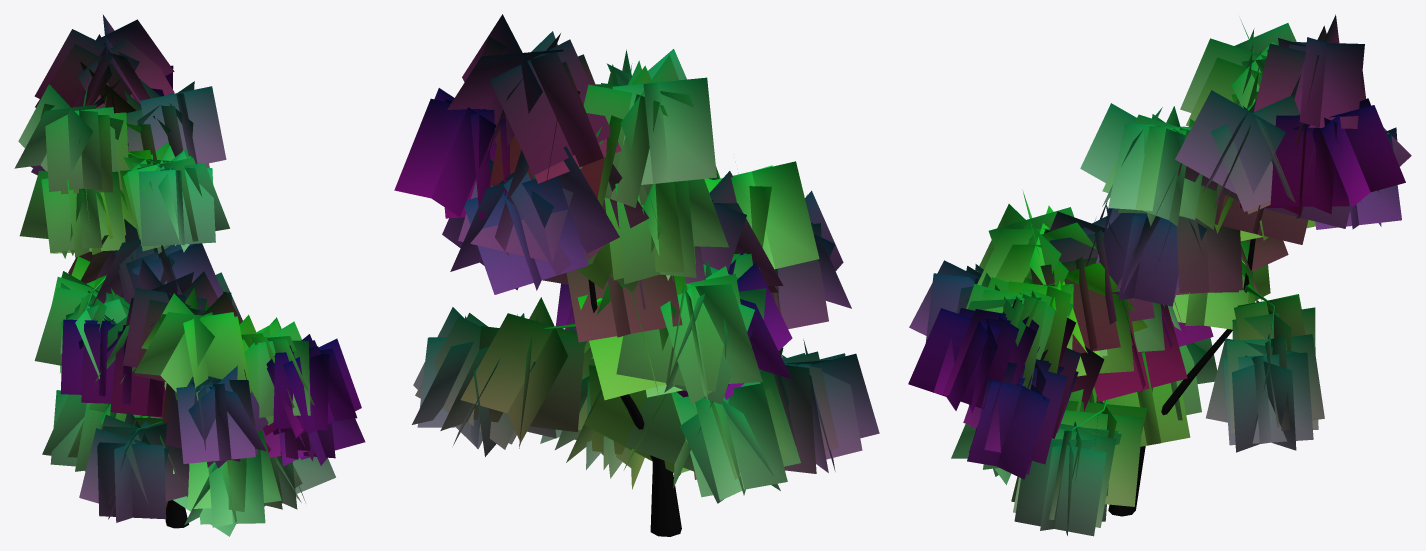
Rendered from M_P13_Tree_7.fbx.
The picture shows the model from 3 angles, left to right: view 1: azimuth 30°, elevation 25°; view 2: azimuth 150°, elevation 25°; view 3: azimuth 270°, elevation 25°; orthographic projection. The views are drawn at different scales.
Visible parts, largest first — view 1: Tree_7; view 2: Tree_7; view 3: Tree_7.
Boxes of the visible parts, bbox=[...] form: Tree_7: bbox=[14, 15, 365, 536]; Tree_7: bbox=[394, 14, 879, 536]; Tree_7: bbox=[908, 14, 1411, 536].
Bounding box in the file's own units: 387 × 665 × 612.
